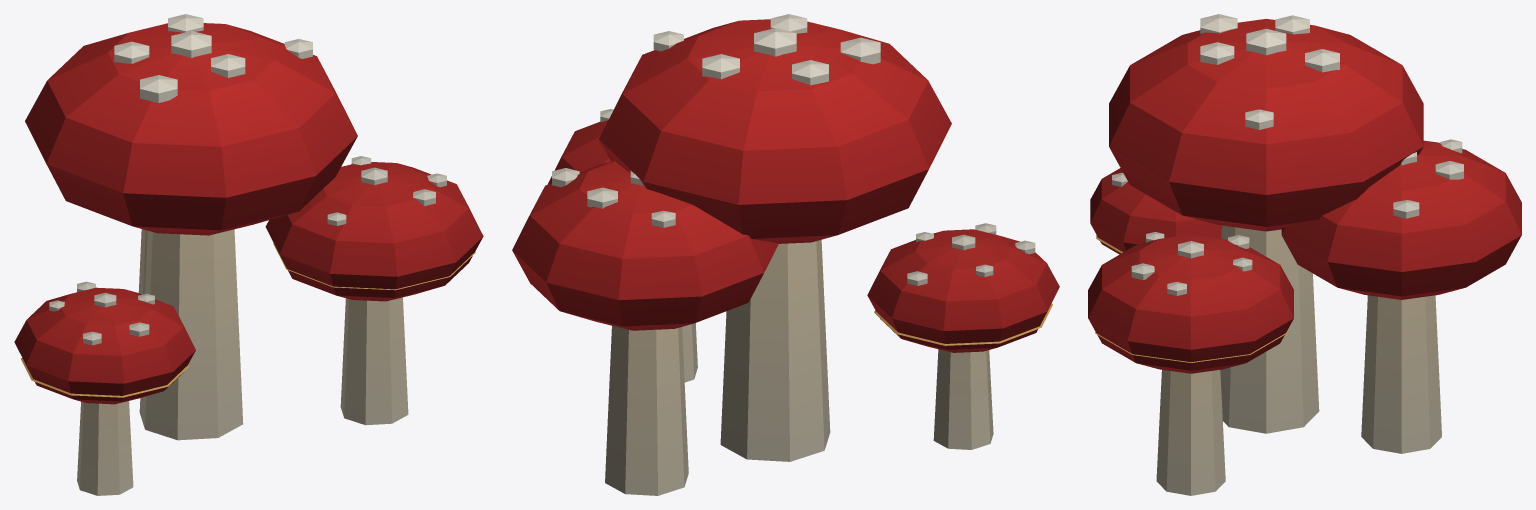
File: toadstool_cluster.glb
The picture shows the model from 3 angles, left to right: view 1: azimuth 30°, elevation 25°; view 2: azimuth 150°, elevation 25°; view 3: azimuth 270°, elevation 25°; orthographic projection. The views are drawn at different scales.
Parts seen in each view (by area): view 1: toadstool_cluster; view 2: toadstool_cluster; view 3: toadstool_cluster.
Part boxes in pixels (left/top/right/bottom): toadstool_cluster: left=14, top=14, right=483, bottom=495; toadstool_cluster: left=512, top=14, right=1059, bottom=495; toadstool_cluster: left=1088, top=14, right=1521, bottom=495.
Bounding box in the file's own units: 1.71 × 1.39 × 1.44.
